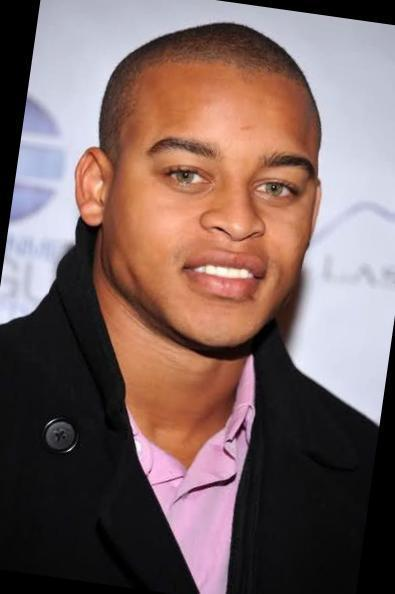Sober: (130, 70, 301, 334)
